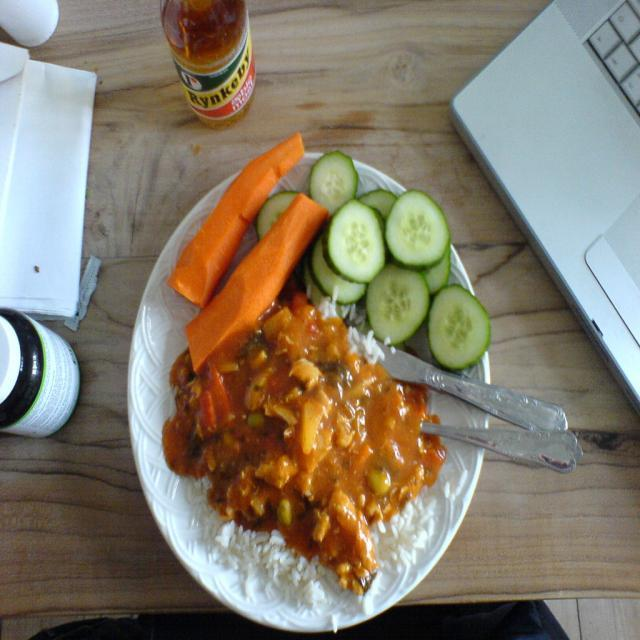Zucchini: (374, 177, 460, 285), (323, 195, 387, 287), (425, 288, 493, 370), (366, 267, 431, 348), (310, 147, 362, 223), (255, 191, 305, 247), (416, 242, 452, 304)
